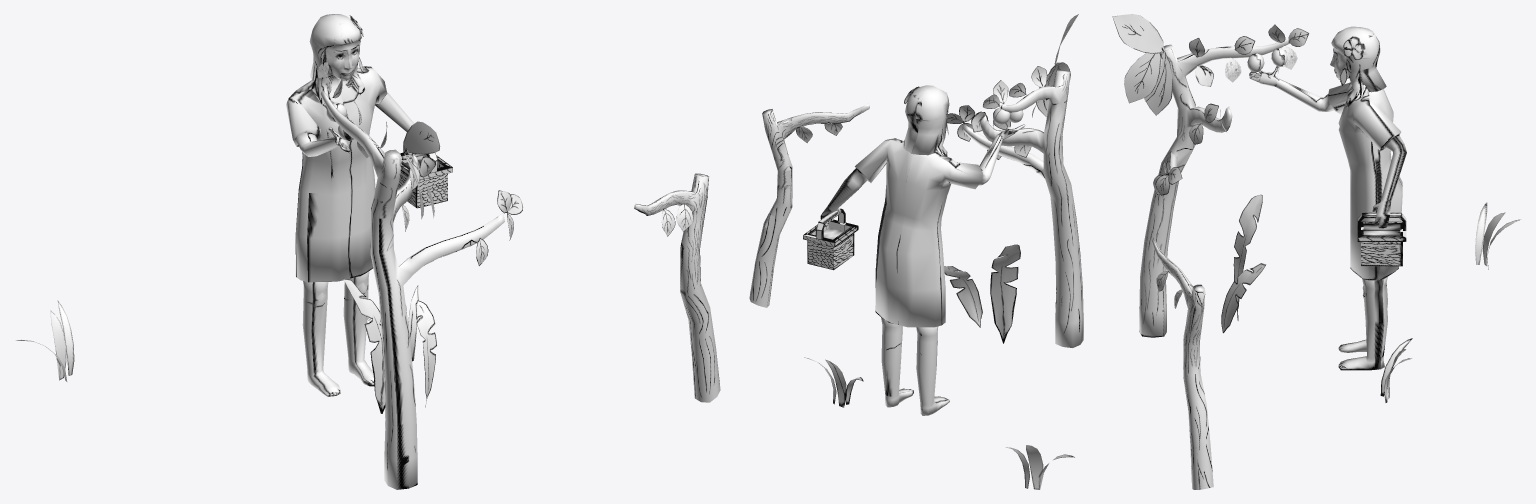
The model's file is girl single.FBX.
3 views of the same model, side by side, from view 1: azimuth 30°, elevation 25°; view 2: azimuth 150°, elevation 25°; view 3: azimuth 270°, elevation 25° (orthographic). The views are drawn at different scales.
Visible parts, largest first — view 1: body R, Box001, Box003, Box002, Big Plane1, Big Plane002, leaf013; view 2: body R, Box001, Box003, Box002, Big Plane1, Big Plane002, Big Leaf005, Big Leaf; view 3: body R, Box001, Box003, Box002, leaf013, leaf012, Big Plane1, Big Plane002, leaf014, Big Leaf004.
Boxes of the visible parts, left/top/right/bottom form: body R: left=286, top=14, right=427, bottom=396; Box001: left=320, top=90, right=504, bottom=489; Box003: left=634, top=173, right=720, bottom=402; Box002: left=398, top=143, right=452, bottom=208; Big Plane1: left=343, top=278, right=385, bottom=413; Big Plane002: left=415, top=300, right=437, bottom=407; leaf013: left=403, top=121, right=440, bottom=154; body R: left=820, top=85, right=1025, bottom=415; Box001: left=962, top=69, right=1083, bottom=347; Box003: left=749, top=104, right=869, bottom=307; Box002: left=803, top=208, right=858, bottom=270; Big Plane1: left=990, top=244, right=1020, bottom=343; Big Plane002: left=944, top=266, right=982, bottom=327; Big Leaf005: left=1026, top=445, right=1043, bottom=489; Big Leaf: left=825, top=359, right=846, bottom=407; body R: left=1249, top=26, right=1406, bottom=370; Box001: left=1139, top=38, right=1289, bottom=337; Box003: left=1151, top=238, right=1213, bottom=489; Box002: left=1357, top=212, right=1406, bottom=266; leaf013: left=1112, top=14, right=1165, bottom=54; leaf012: left=1124, top=51, right=1162, bottom=103; Big Plane1: left=1233, top=194, right=1262, bottom=320; Big Plane002: left=1221, top=263, right=1266, bottom=333; leaf014: left=1144, top=52, right=1172, bottom=115; Big Leaf004: left=1475, top=202, right=1487, bottom=264.
Size of the model in its own units: 596 by 405 by 442.
1 material, 1 textured.
